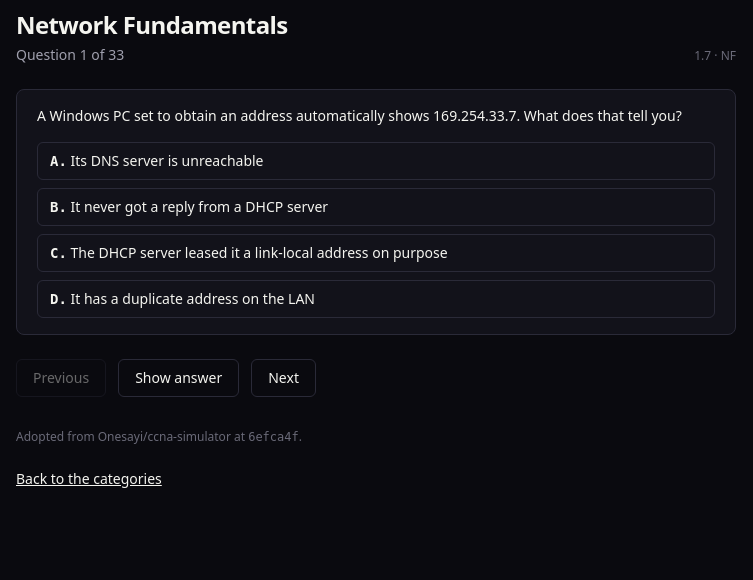
Test: LearnMode › reveals the explanation on demand and hides it again on the next question
The image size is (753, 580).
Click the button "Show answer": (179, 378) x1=118 y1=359 x2=239 y2=397
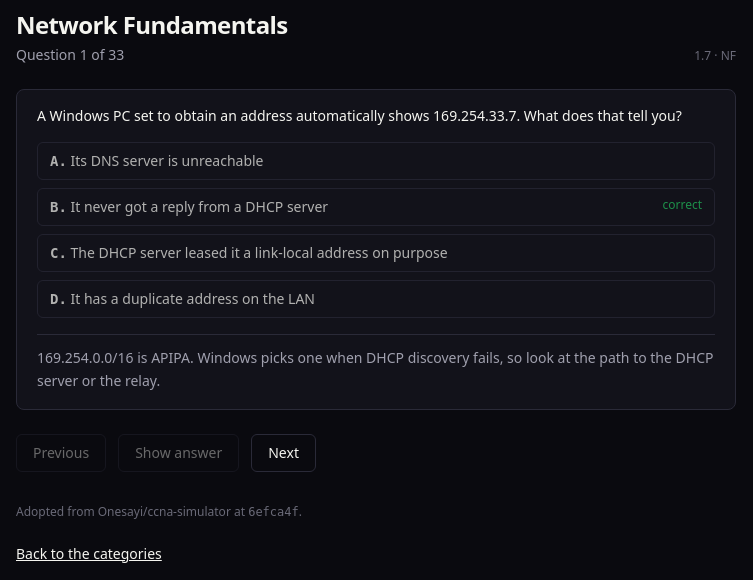
Expected: the text "169.254.0.0/16 is APIPA. Windows picks one when DHCP discovery fails, so look at the path to the DHCP server or the rela" is shown, x1=37 y1=348 x2=714 y2=390
Click the button "Next": (284, 452) x1=251 y1=434 x2=316 y2=472
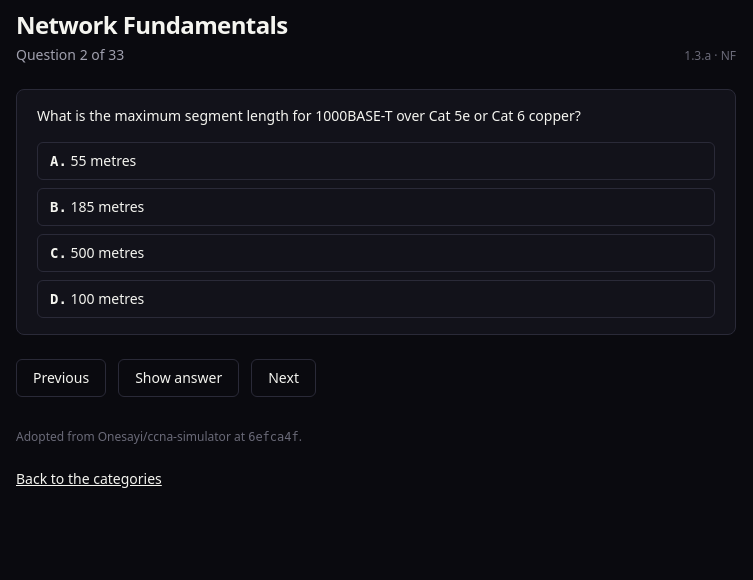
Expected: the text "Question 2 of 33" is shown, x1=16 y1=45 x2=124 y2=65
Expected: the text "169.254.0.0/16 is APIPA. Windows picks one when DHCP discovery fails, so look at the path to the DHCP server or the rela" is gone
